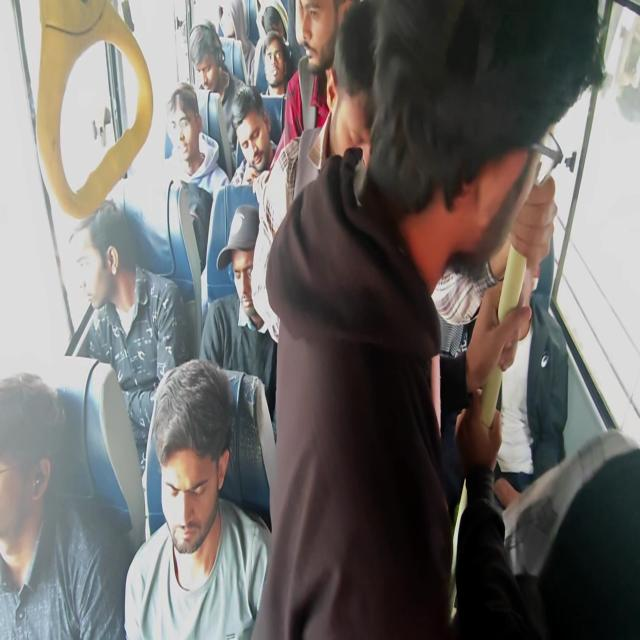person: (450, 428, 634, 634), (430, 175, 546, 352), (321, 1, 382, 179), (56, 206, 134, 318), (162, 66, 210, 240), (230, 367, 274, 525), (0, 372, 64, 469), (220, 226, 271, 337), (294, 3, 340, 76), (165, 496, 219, 558), (254, 35, 292, 98), (239, 116, 264, 176), (196, 35, 225, 82), (261, 4, 287, 41), (218, 2, 237, 37), (204, 17, 218, 38), (218, 5, 224, 17), (256, 1, 261, 12)
